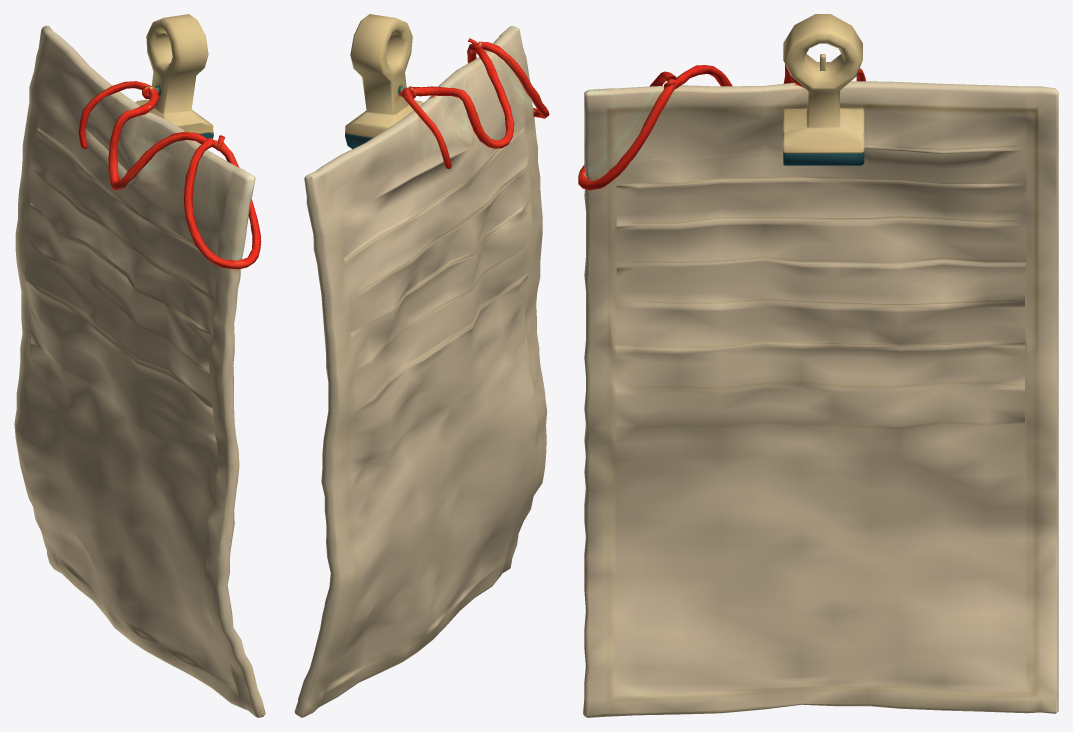
The picture shows the model from 3 angles, left to right: view 1: azimuth 30°, elevation 25°; view 2: azimuth 150°, elevation 25°; view 3: azimuth 270°, elevation 25°; orthographic projection. The views are drawn at different scales.
Parts seen in each view (by area): view 1: tripo_node_725935be-010f-4ab5-8111-32ef6027f001; view 2: tripo_node_725935be-010f-4ab5-8111-32ef6027f001; view 3: tripo_node_725935be-010f-4ab5-8111-32ef6027f001.
Boxes of the visible parts, x1,y1,x2,y2 form: tripo_node_725935be-010f-4ab5-8111-32ef6027f001: (14,14,265,717); tripo_node_725935be-010f-4ab5-8111-32ef6027f001: (294,14,549,717); tripo_node_725935be-010f-4ab5-8111-32ef6027f001: (578,14,1058,717).
Size of the model in its own units: 0.047 by 0.24 by 0.1475.
1 material, 1 textured.
